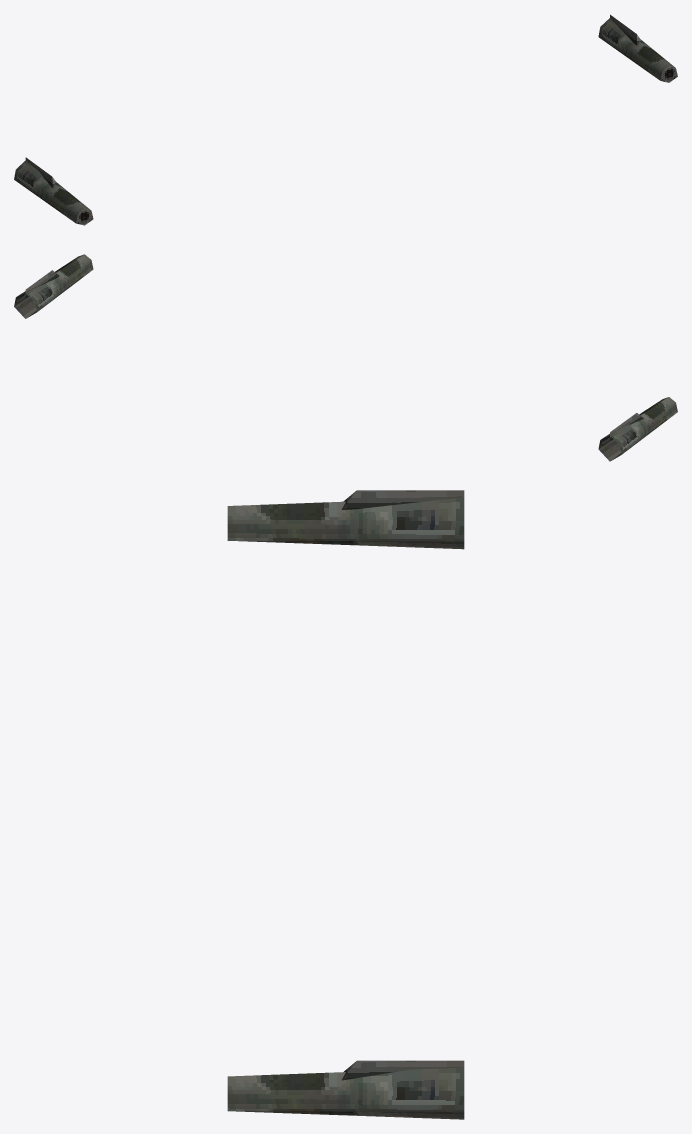
File: black_sun_fighter_light_weapon_s01_l3.fbx
The picture shows the model from 3 angles, top to bottom: view 1: azimuth 30°, elevation 25°; view 2: azimuth 150°, elevation 25°; view 3: azimuth 270°, elevation 25°; orthographic projection. The views are drawn at different scales.
Visible parts, largest first — view 1: mesh_node; view 2: mesh_node; view 3: mesh_node.
Part boxes in pixels (x1=…): mesh_node: x1=14, y1=14, x2=677, y2=225; mesh_node: x1=14, y1=254, x2=677, y2=461; mesh_node: x1=227, y1=490, x2=464, y2=1119.
Size of the model in its own units: 11.68 by 0.5416 by 1.97.
1 material, 1 textured.
